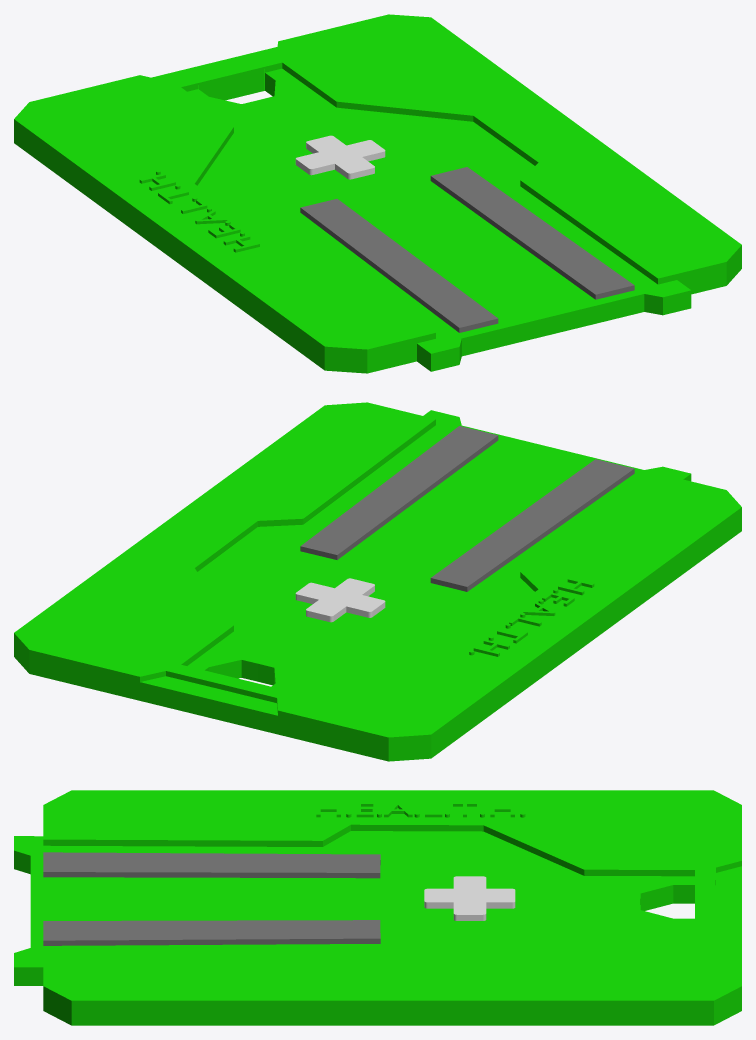
The model's file is health.fbx.
The picture shows the model from 3 angles, top to bottom: view 1: azimuth 30°, elevation 25°; view 2: azimuth 150°, elevation 25°; view 3: azimuth 270°, elevation 25°; orthographic projection. The views are drawn at different scales.
Parts seen in each view (by area): view 1: Cube, Health, Text; view 2: Cube, Health, Text; view 3: Cube, Health, Text.
Part boxes in pixels (x1,y1,x2,y2): Cube: (14, 14, 741, 373); Health: (295, 135, 385, 179); Text: (139, 170, 259, 252); Cube: (14, 402, 741, 761); Health: (295, 578, 385, 622); Text: (469, 578, 594, 656); Cube: (14, 790, 741, 1025); Health: (424, 876, 515, 920); Text: (316, 802, 525, 817).
Size of the model in its own units: 323 by 19.92 by 473.
